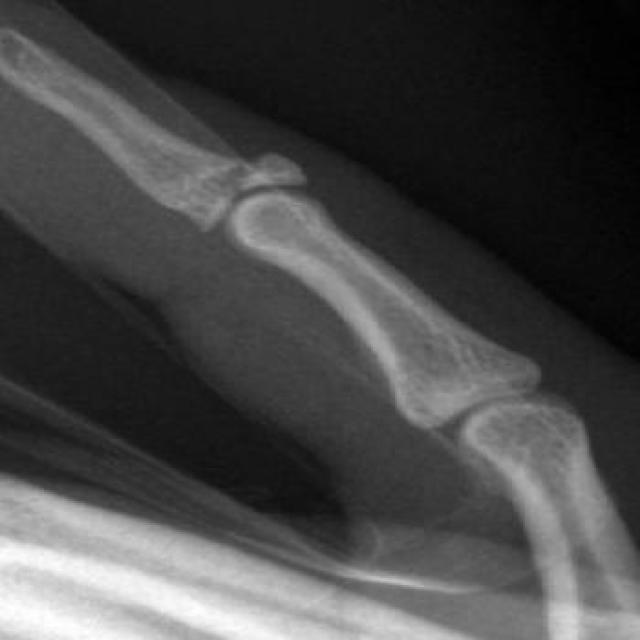Fracture: (224, 140, 315, 206)
